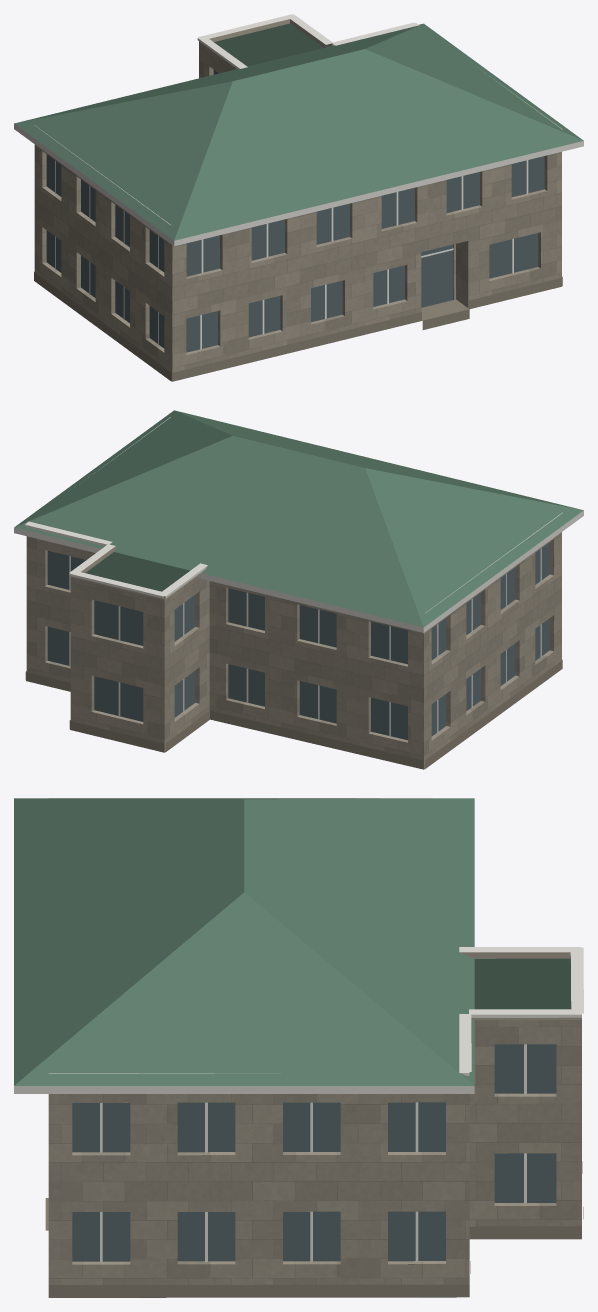
3 renders of one model, top to bottom at view 1: azimuth 30°, elevation 25°; view 2: azimuth 150°, elevation 25°; view 3: azimuth 270°, elevation 25°, orthographic. The views are drawn at different scales.
Parts seen in each view (by area): view 1: gonggwan__roofAccent, gonggwan__wall, gonggwan__glass, gonggwan__base, gonggwan__trim, gonggwan__roof, gonggwan__frame, gonggwan__parapet; view 2: gonggwan__roofAccent, gonggwan__wall, gonggwan__glass, gonggwan__base, gonggwan__trim, gonggwan__roof, gonggwan__frame; view 3: gonggwan__roofAccent, gonggwan__wall, gonggwan__glass, gonggwan__trim, gonggwan__base, gonggwan__roof, gonggwan__frame, gonggwan__parapet.
Boxes of the visible parts, x1,y1,x2,y2 form: gonggwan__roofAccent: (14, 23, 583, 240); gonggwan__wall: (34, 42, 561, 381); gonggwan__glass: (46, 70, 544, 352); gonggwan__base: (34, 271, 562, 381); gonggwan__trim: (14, 14, 583, 246); gonggwan__roof: (171, 23, 422, 381); gonggwan__frame: (55, 160, 528, 349); gonggwan__parapet: (199, 19, 334, 69); gonggwan__roofAccent: (14, 410, 583, 627); gonggwan__wall: (26, 532, 561, 768); gonggwan__glass: (47, 542, 549, 740); gonggwan__base: (25, 659, 562, 769); gonggwan__trim: (14, 417, 583, 632); gonggwan__roof: (85, 552, 424, 769); gonggwan__frame: (69, 548, 541, 736); gonggwan__roofAccent: (14, 798, 474, 1085); gonggwan__wall: (48, 1020, 581, 1284); gonggwan__glass: (72, 1044, 556, 1261); gonggwan__trim: (14, 798, 583, 1093); gonggwan__base: (45, 1161, 583, 1297); gonggwan__roof: (139, 958, 571, 1297); gonggwan__frame: (100, 1044, 526, 1261); gonggwan__parapet: (460, 952, 581, 1020).
Size of the model in its own units: 19.2 by 10.2 by 16.08.
Materials: 9 (1 with a texture image).
